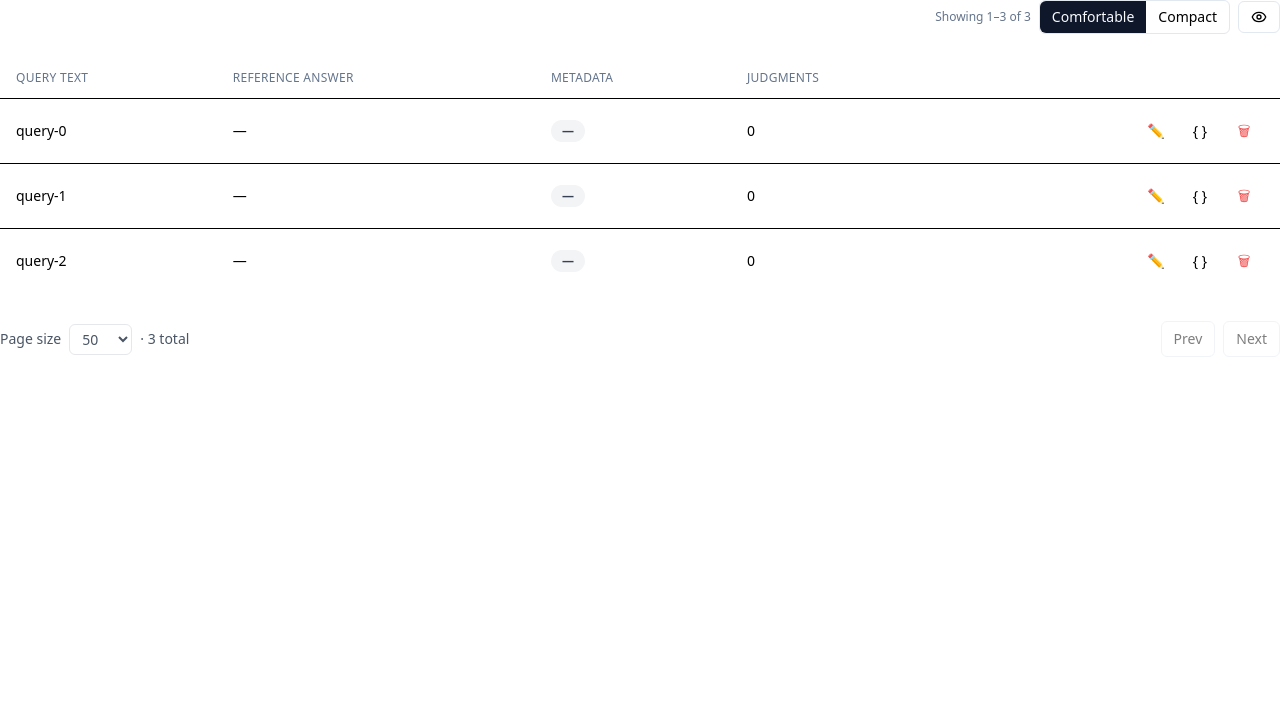
Scenario: QueriesTable delete-flow integration › 204 path: row disappears after refetch + total-count decrements
Check: the text "query-0" is shown, box [16,121,67,140]
Check: the text with test id "data-table-total-count" shows "3", box [935,8,1031,25]
// Click the row's Delete icon-button → AlertDialog opens.
Click the button "🗑" in the row of "query-0".
click(1244, 131)  # box [1224,111,1264,151]
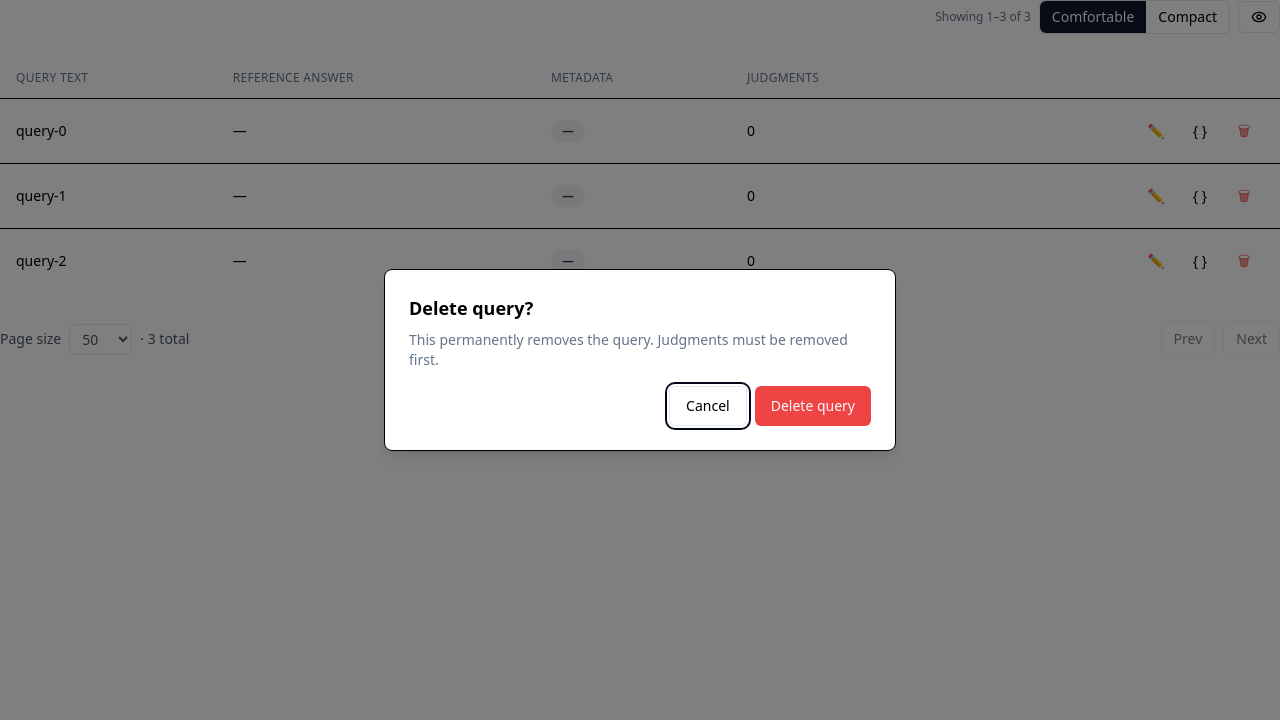
Check: the button with test id "confirm-delete-query" is shown
Click the button with test id "confirm-delete-query".
click(813, 406)  # box [755,386,871,426]
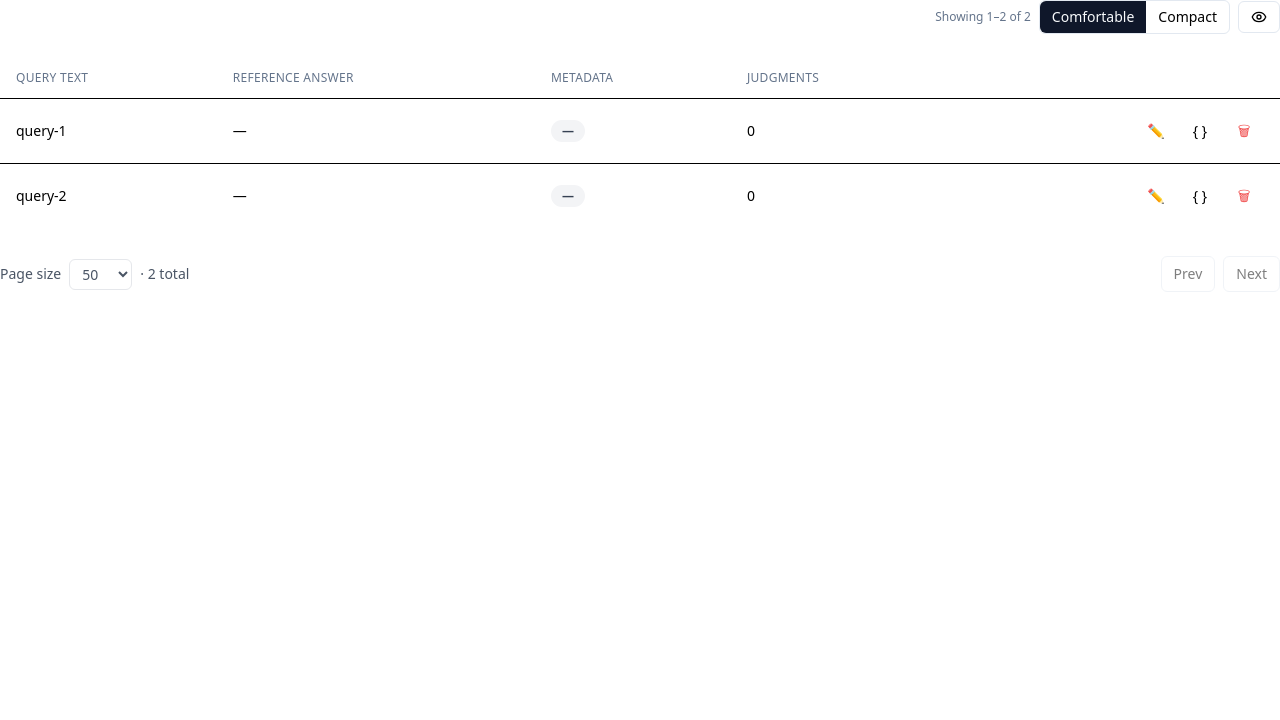
Check: the text "query-1" is shown, box [16,121,67,140]
Check: the text "query-0" is gone
Check: the text with test id "data-table-total-count" shows "2", box [935,8,1031,25]
